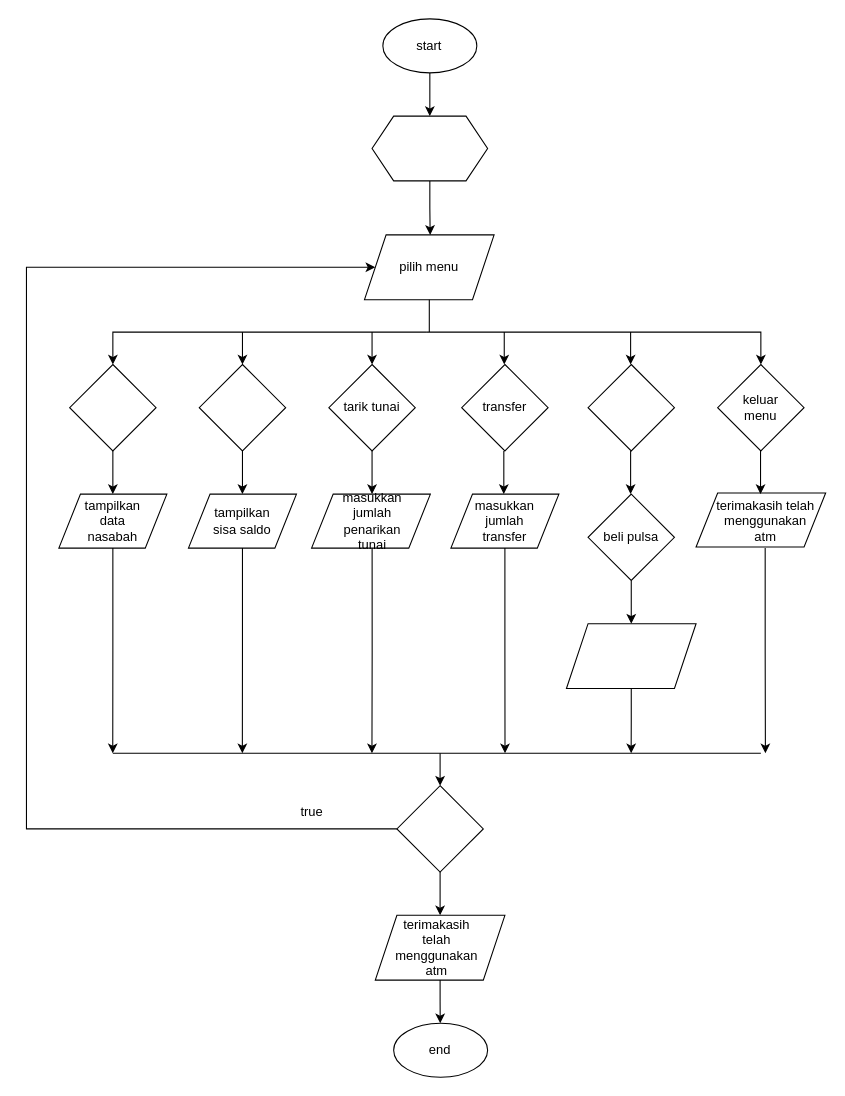
Some shapes in this 845 by 1096 pixel diagram are drawn without their labels. The shapes that lost their labels are listed below. From the top down, each one's centre as x and y in pixels, then its label:
At point (429, 148): "int menu".
At point (112, 407): "data nasabah".
At point (242, 407): "cek saldo".
At point (630, 407): "pembayaran lain".
At point (630, 655): "masukkan nominal pulsa".
At point (439, 828): "apa ada transaksi lain ?".
